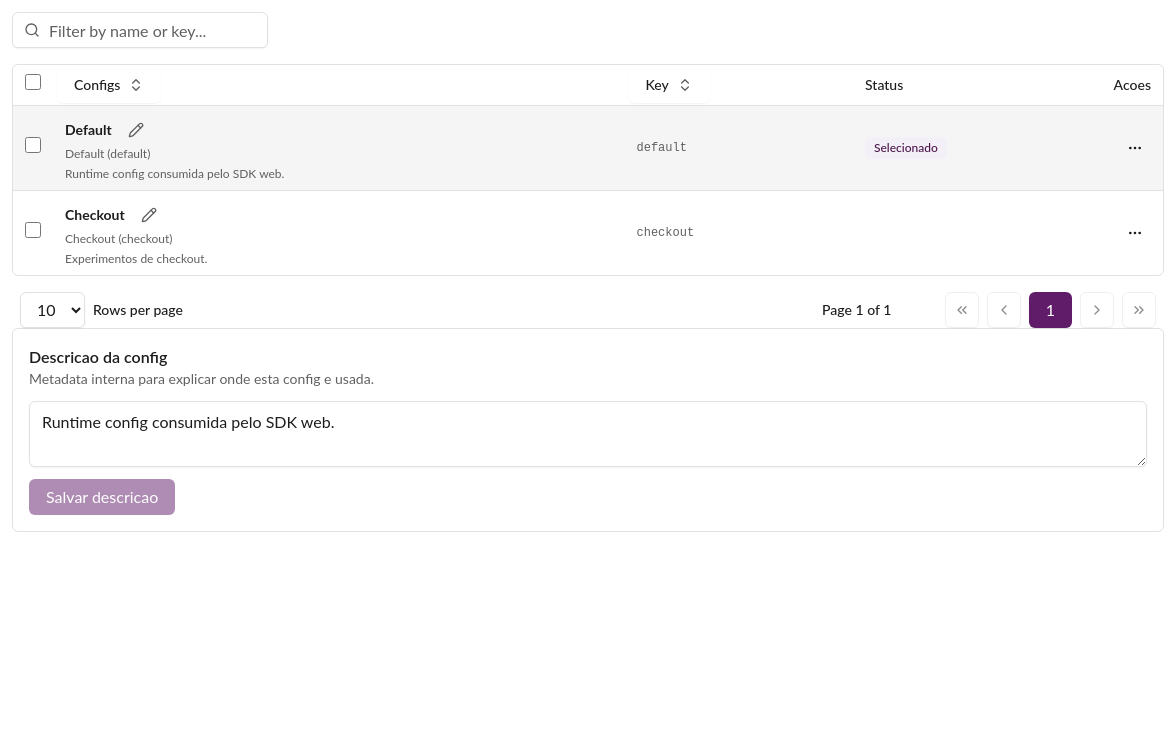
Test case: Configs pages › updates config description and surfaces mutation errors
Replace the text in the text box with placeholder "Ex.: Config consumida pelo SDK web." with "Nova descricao" at [588, 434], box [29,400,1147,466]
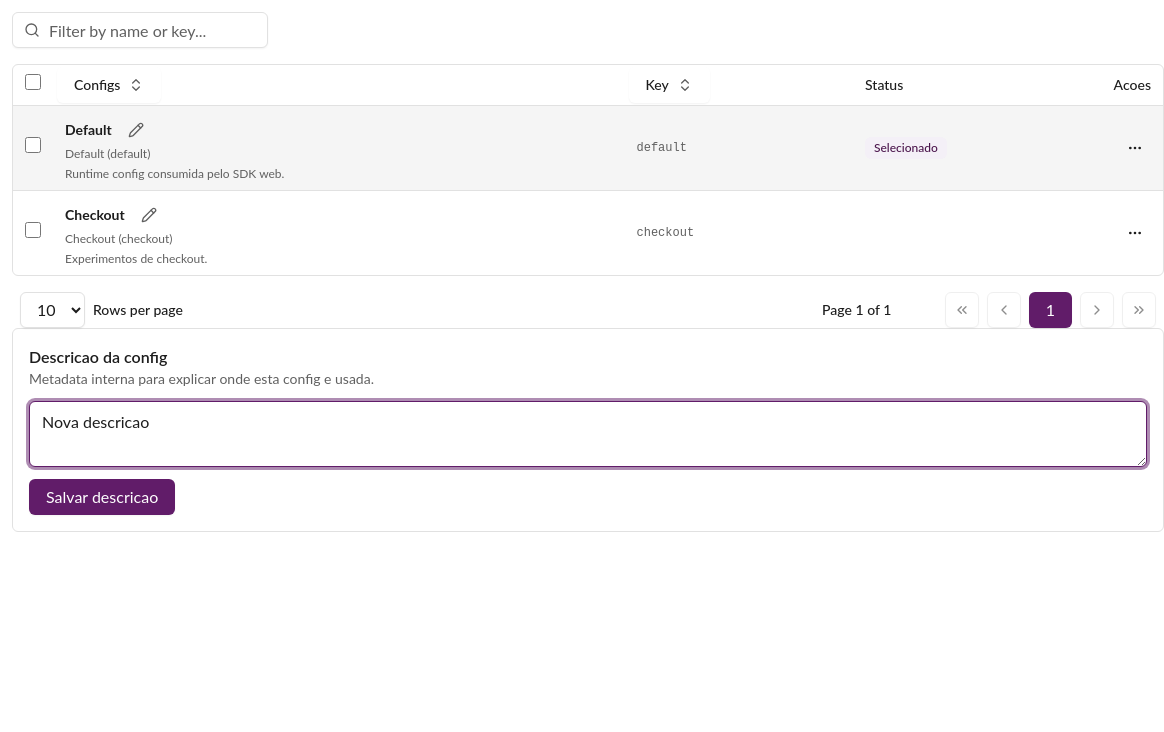
Click the button "Salvar descricao" at [102, 496], box [29,478,175,514]
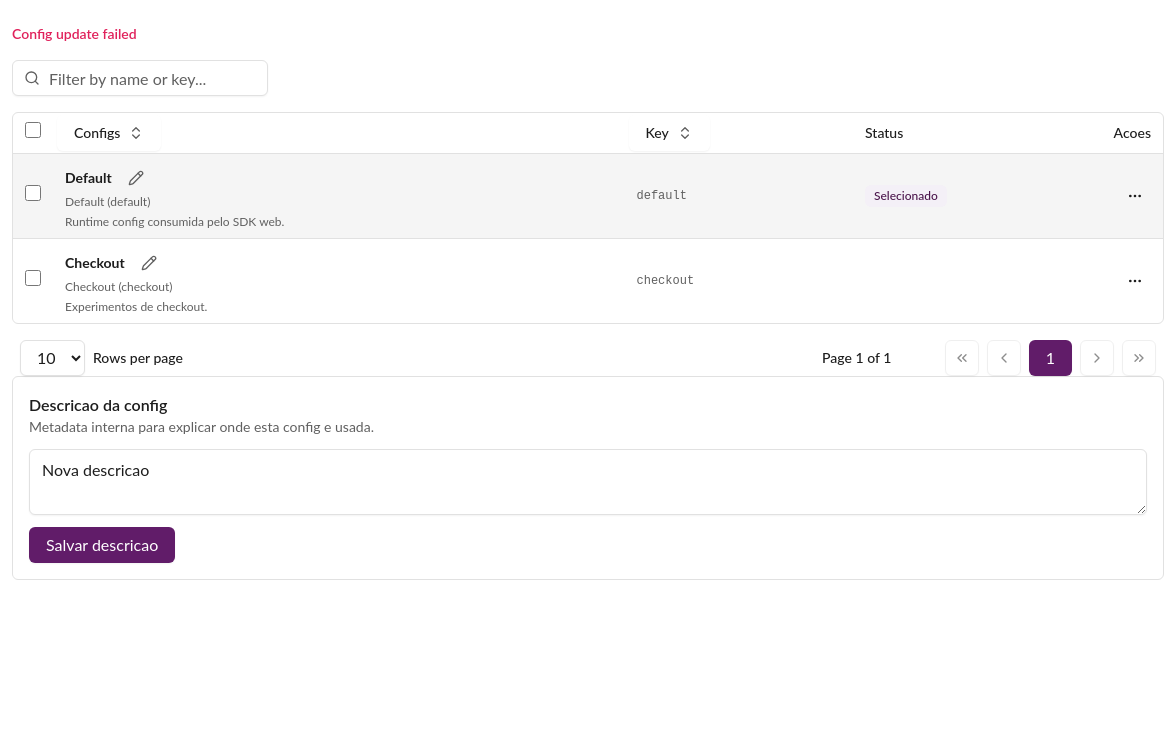
Expected: the text "Config update failed" is shown, [12,25,137,42]
